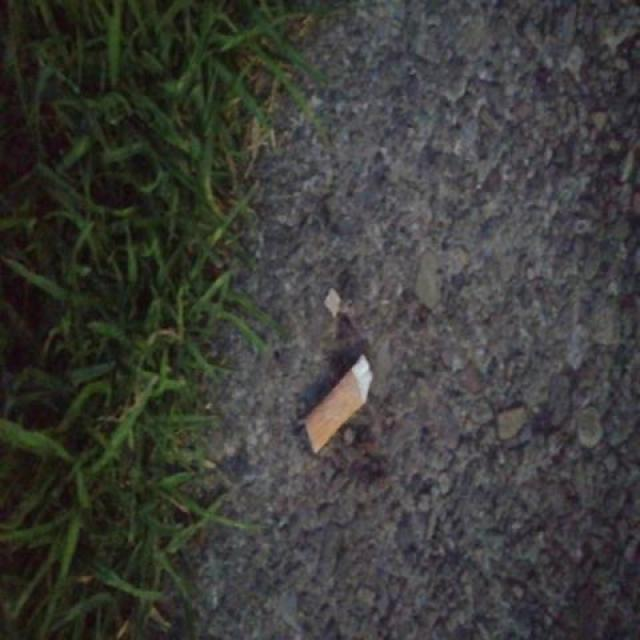non-organic waste: (295, 348, 377, 460)
